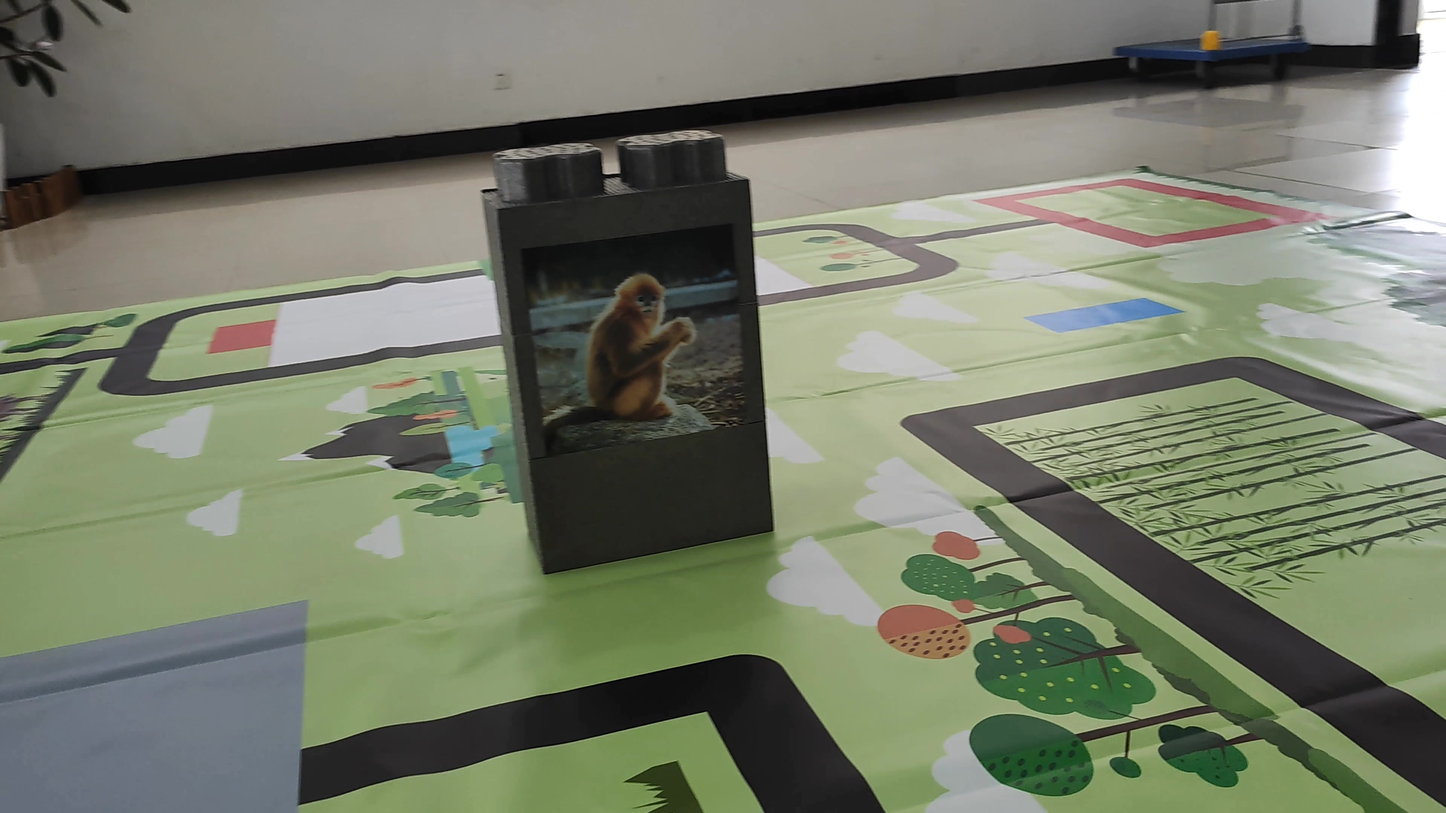monkey: (540, 266, 708, 452)
